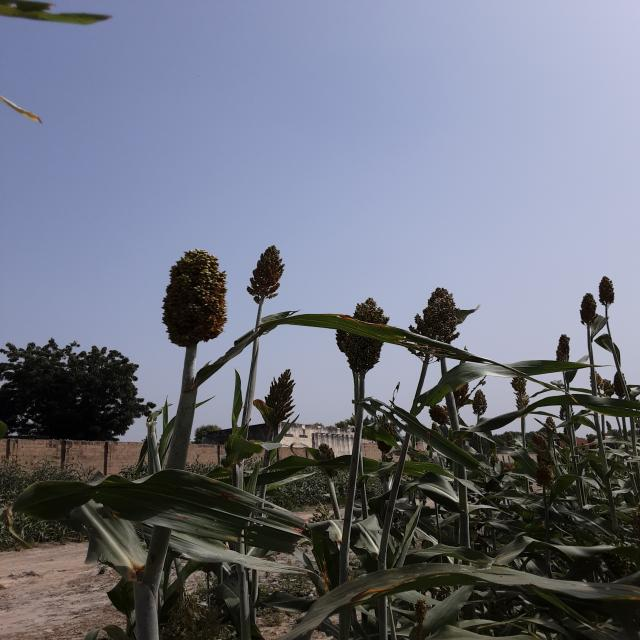UnripeSorghum: (138, 234, 241, 355)
